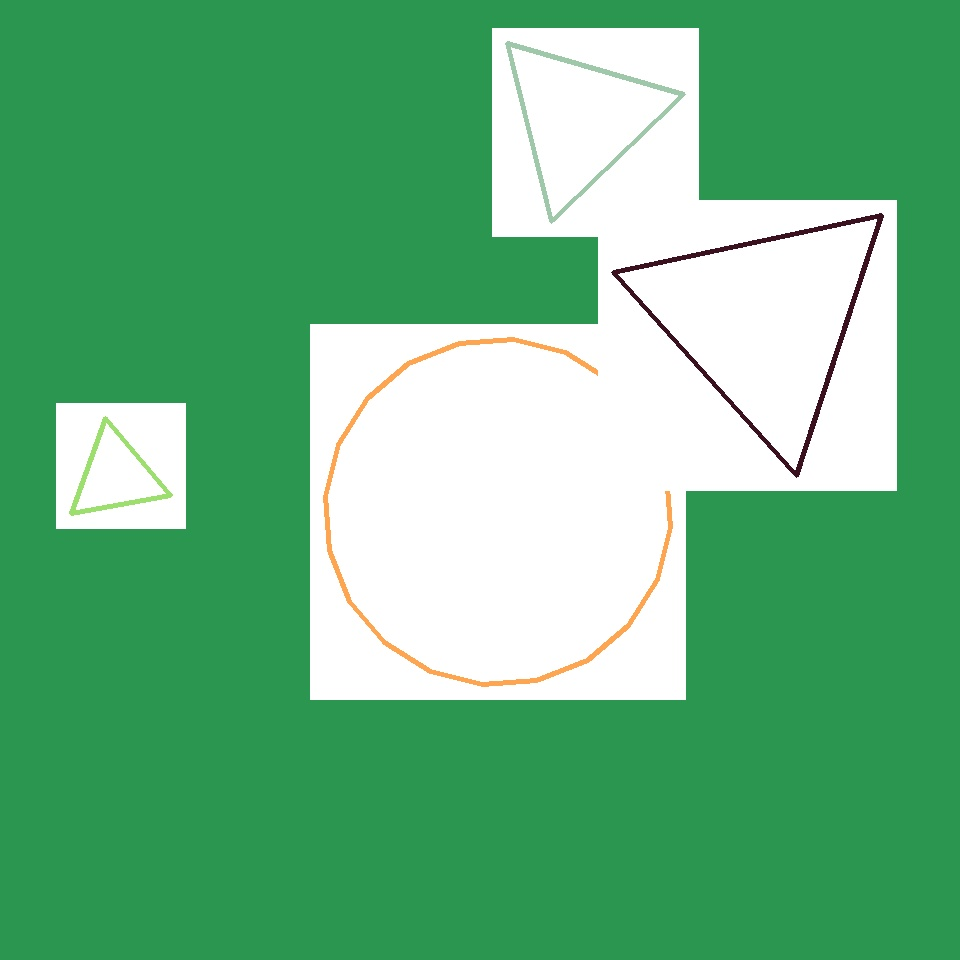circle: (630, 191, 898, 451), (256, 214, 456, 410), (492, 240, 678, 422), (493, 31, 669, 209), (66, 428, 166, 524)
square: (104, 586, 376, 858)
triangle: (326, 340, 670, 684), (520, 346, 834, 660), (312, 464, 576, 728)
